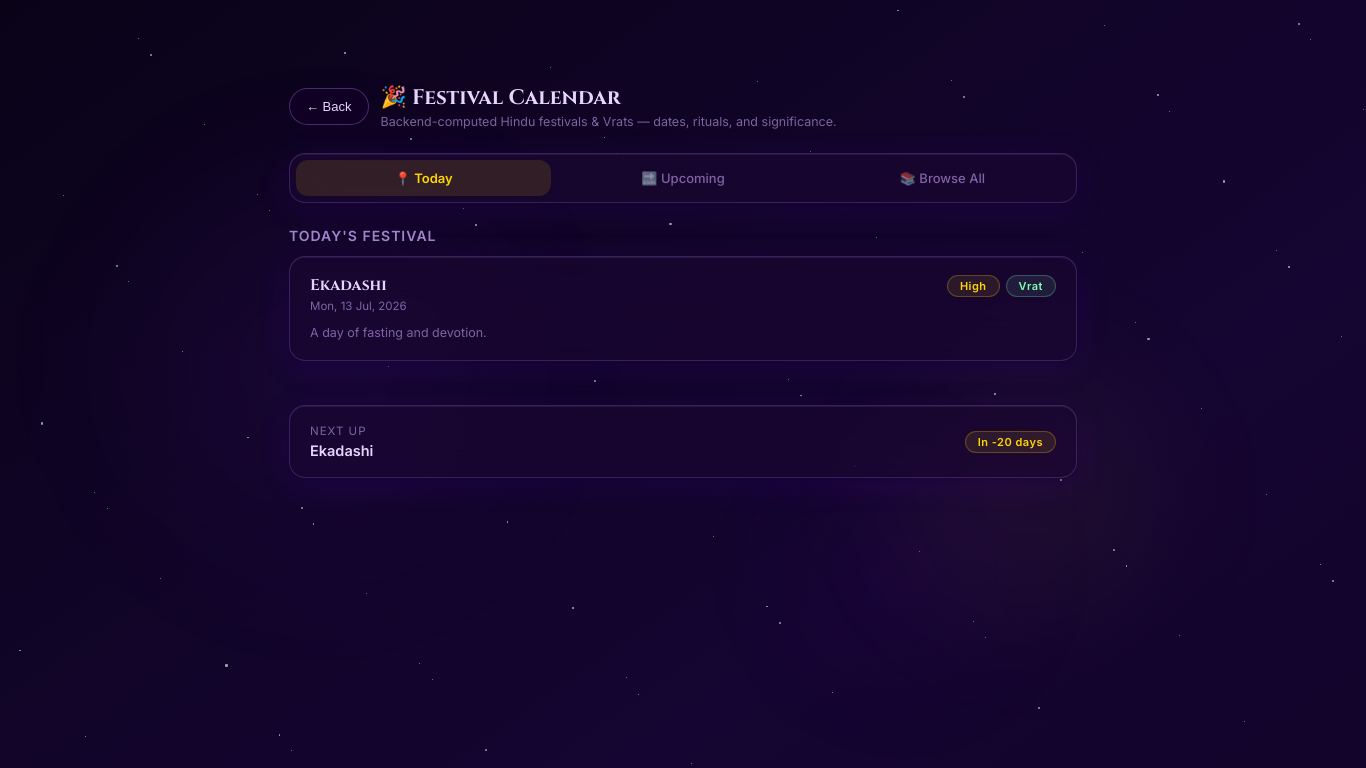
Scenario: FestivalPage › switches to the Upcoming tab and shows a festival timeline
The image size is (1366, 768).
Expected: the text "Next Up" is shown, [310,424,373,438]
Click the button "🔜 Upcoming". click: click(683, 178)
box: [555,160,811,196]
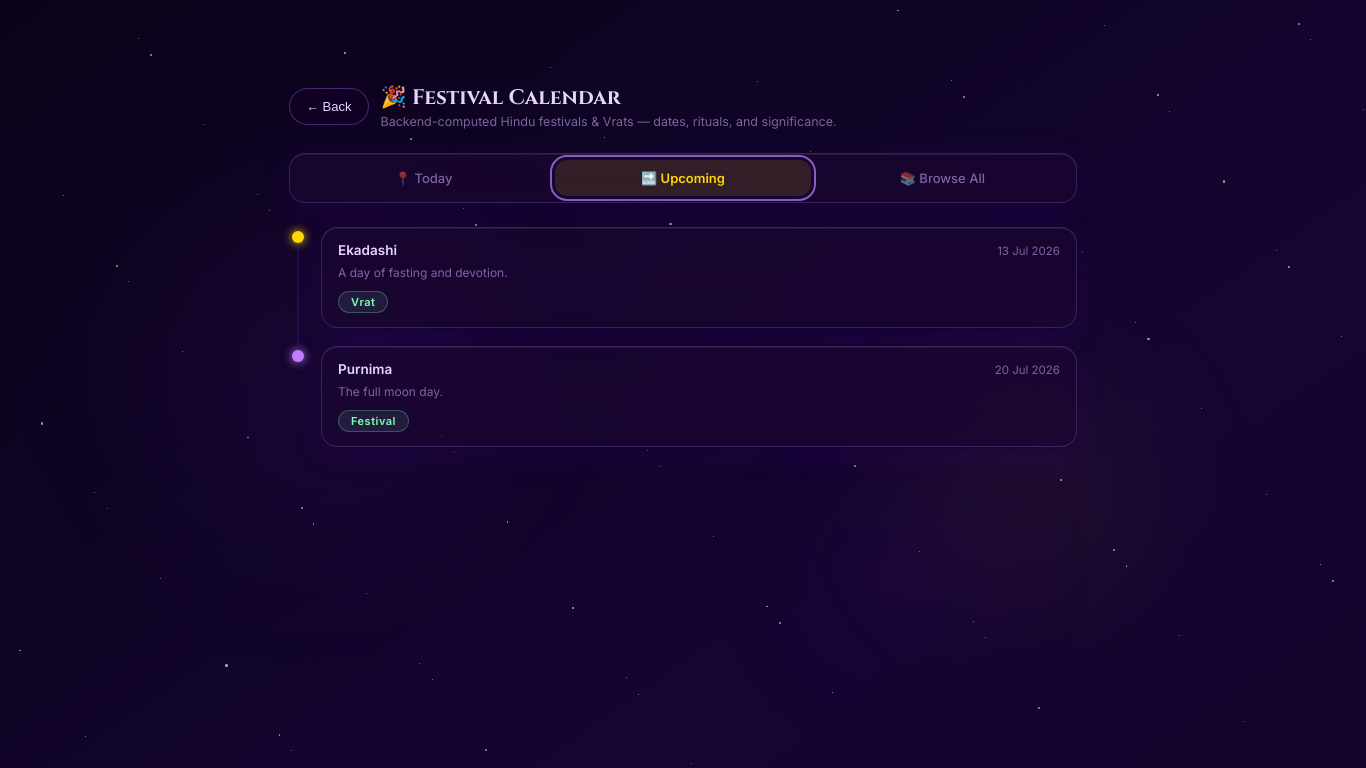
Now the text "Purnima" is shown, box [338,361,392,377]
